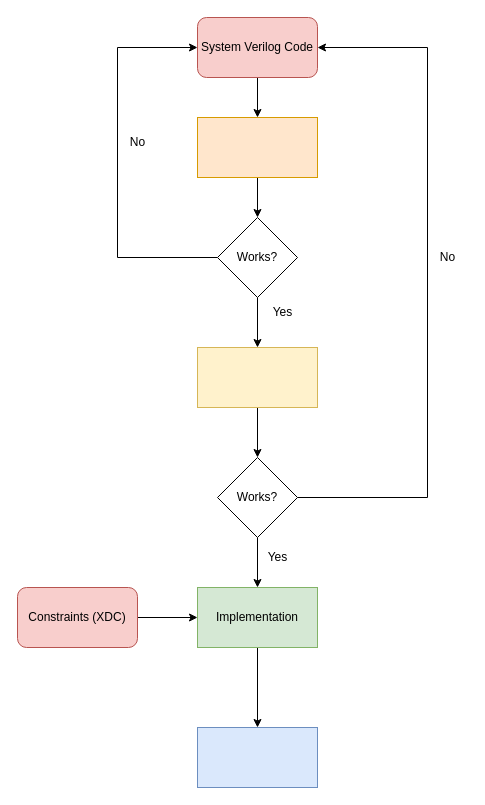
Image size: 485x805. Some labels were removed from this diagram. The shapes that lost their labels are listed below. From the top down, each one's centre as x and y in pixels, then its label:
At point 257,147: "Simulation".
At point 257,377: "Synthesis".
At point 257,757: "Generate Bitstream".
